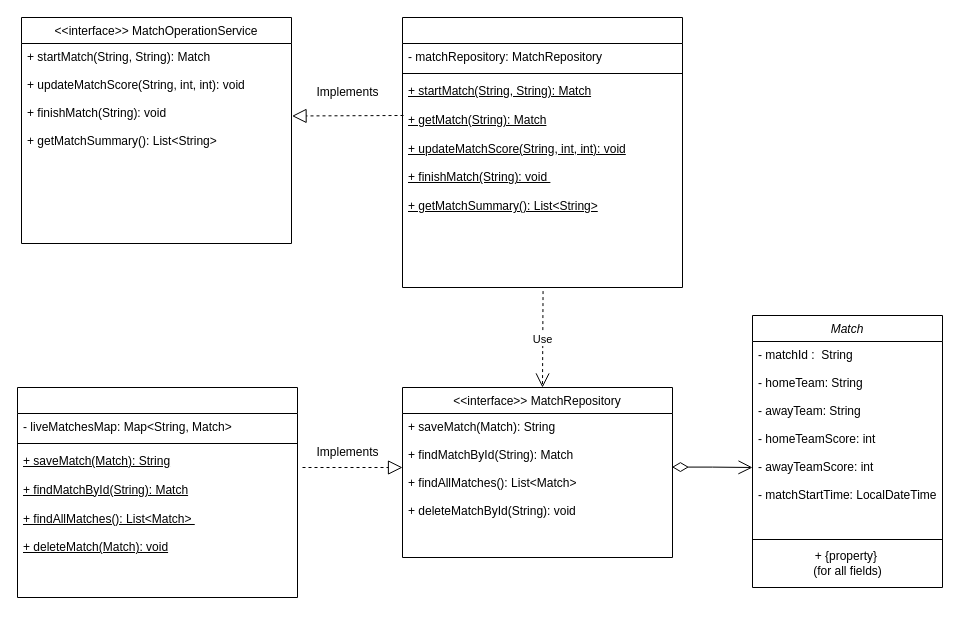
Image size: 960x618. Some labels were removed from this diagram. The shapes that lost their labels are listed below. From the top down, each one's box as (x1, y1, x2, y2) in pixels, then its label:
(402, 16, 682, 288): MatchOperationServiceImpl
(16, 386, 298, 598): MatchRepositoryImpl
